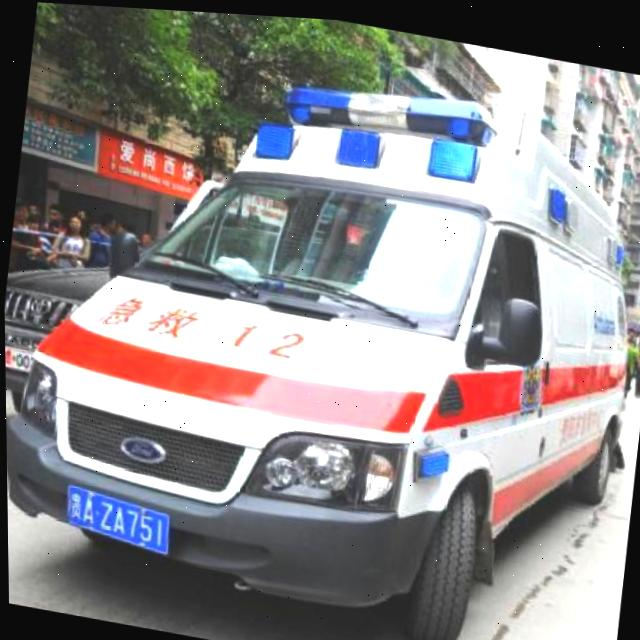emergency: (0, 18, 640, 640)
